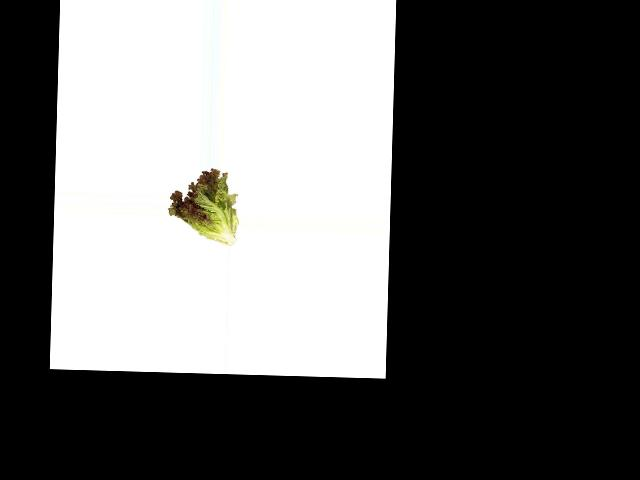lettuce: (168, 166, 238, 245)
